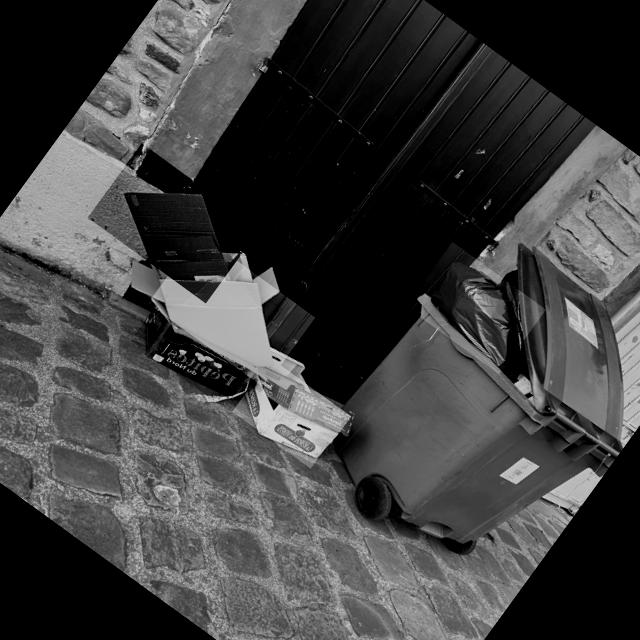Garbage bag: (404, 241, 546, 374)
Other Carton: (86, 143, 258, 303), (146, 232, 314, 388), (130, 313, 250, 413), (230, 385, 328, 468), (260, 365, 350, 444)
